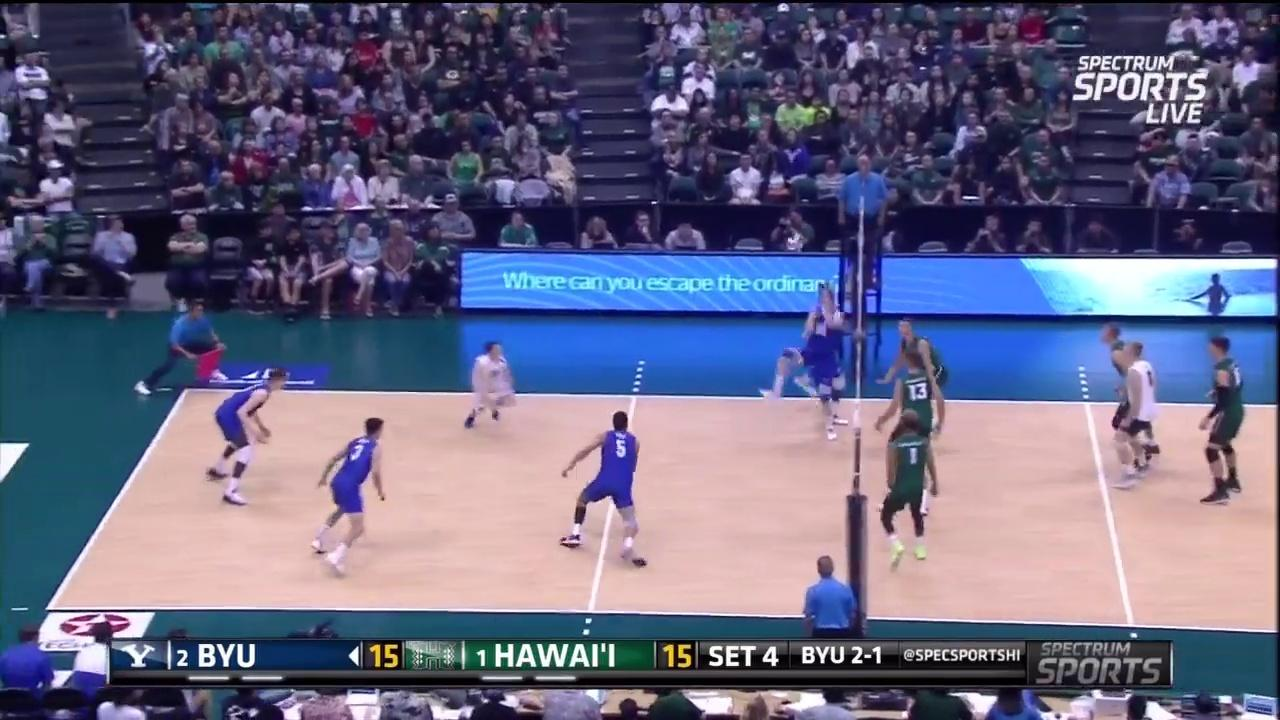player: (556, 412, 644, 561), (311, 420, 390, 572), (773, 278, 839, 446), (211, 372, 290, 505), (880, 410, 939, 582), (886, 354, 951, 501), (1108, 341, 1164, 494), (889, 313, 955, 439), (1196, 340, 1246, 502), (1096, 323, 1150, 460), (459, 332, 524, 436), (809, 286, 854, 434)
refree: (836, 153, 890, 286), (154, 294, 224, 389), (802, 553, 859, 664)
